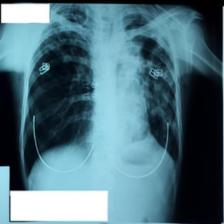tuberculosis: (19, 3, 183, 187)
